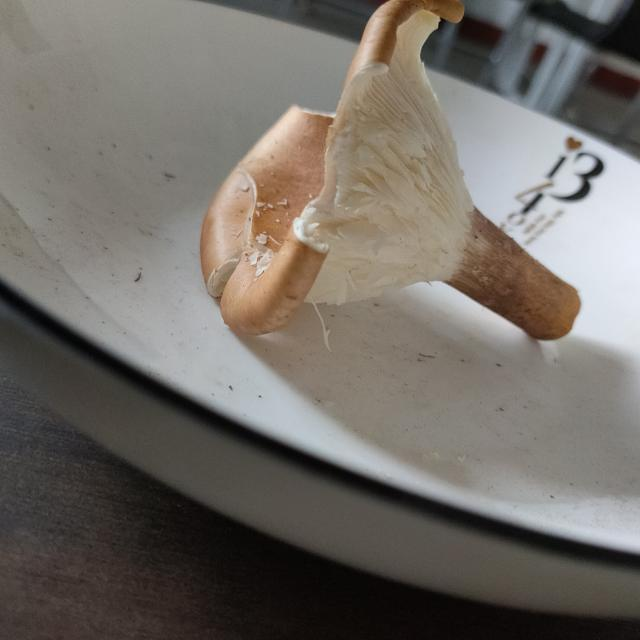Clitocybe maxima: (198, 0, 580, 340)
